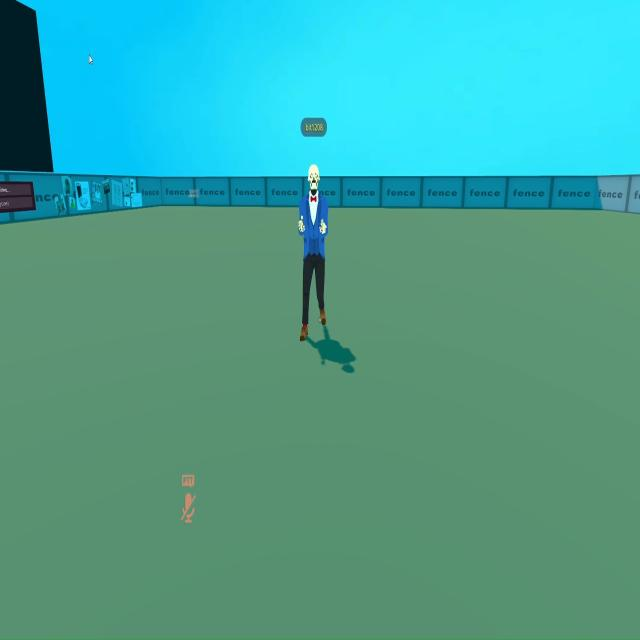human: (297, 157, 332, 346)
